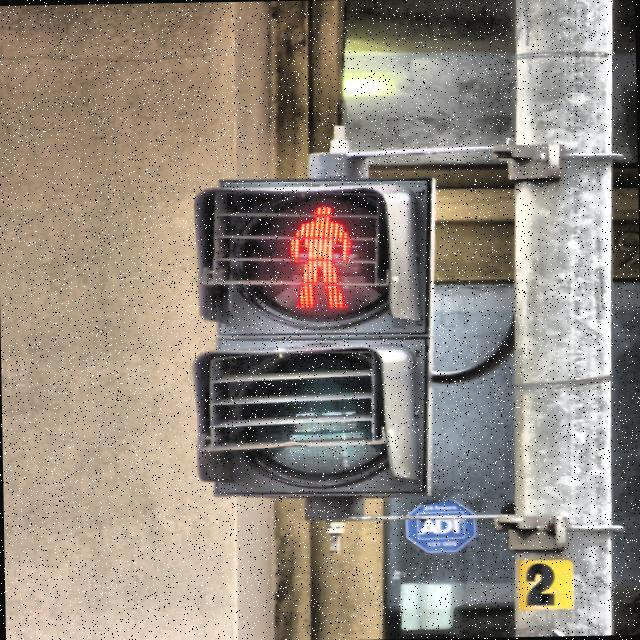red_light: (281, 202, 358, 314)
